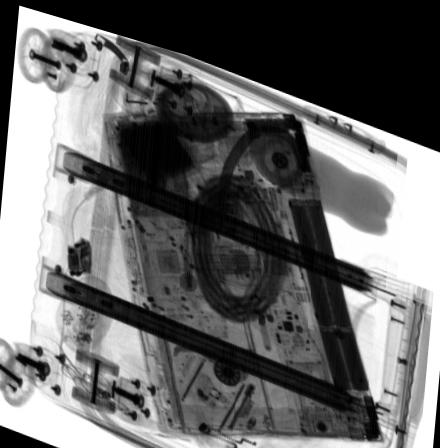Powerbank: (108, 118, 192, 208)
